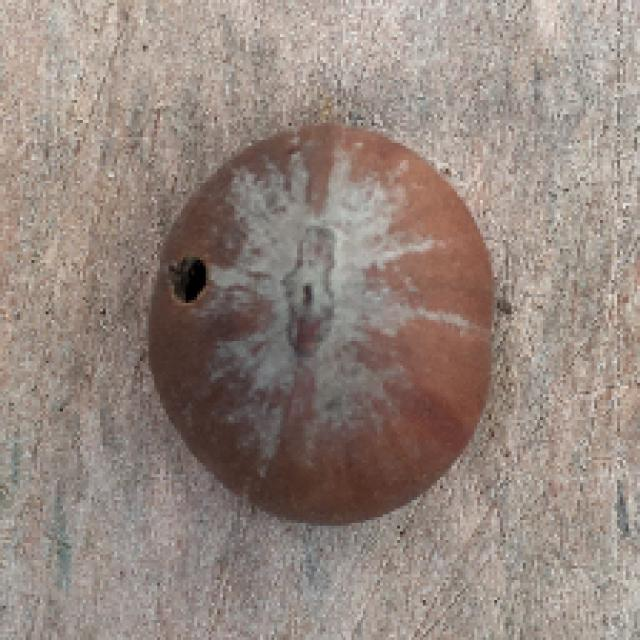damagedHazelnut: (133, 115, 512, 535)
